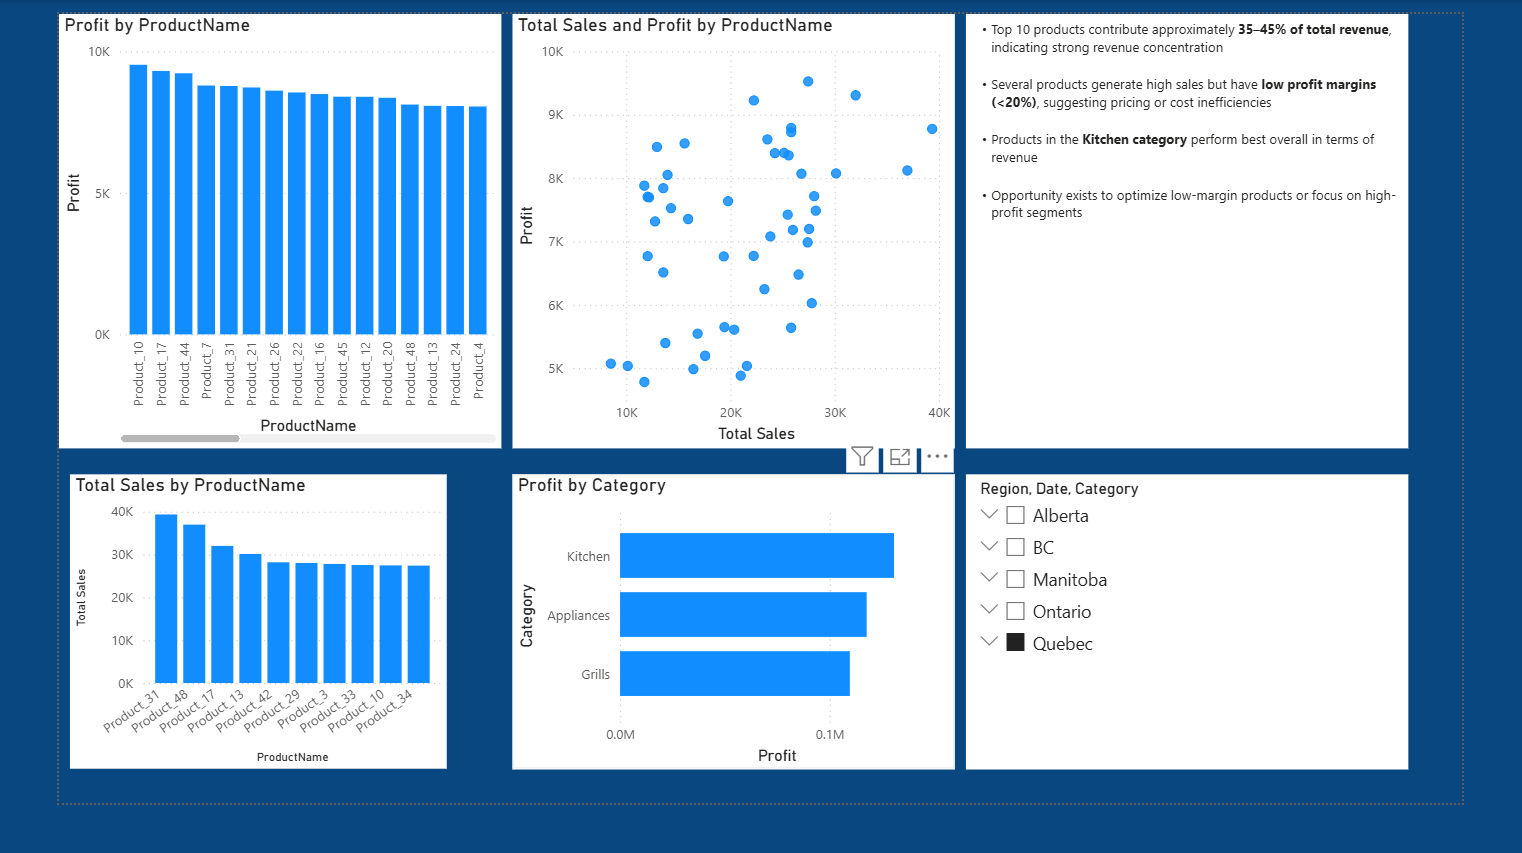

The page's visual inventory and layout, read from the dashboard file:
{"tool":"powerbi","page":{"name":"Page 4","canvas":[1280,720],"ordinal":3},"visuals":[{"type":"clusteredColumnChart","fields":{"Category":["products.ProductName"],"Y":["customers.Total Sales"]},"box":[10,420,343.8,268.8],"z":1},{"type":"columnChart","fields":{"Category":["products.ProductName"],"Y":["customers.Profit"]},"box":[0,0,403.8,396.2],"z":2},{"type":"scatterChart","fields":{"X":["customers.Total Sales"],"Y":["customers.Profit"],"Category":["products.ProductName"]},"box":[414,0,404,396],"z":3},{"type":"barChart","fields":{"Y":["customers.Profit"],"Category":["products.Category"]},"box":[414,420,404,269],"z":5},{"type":"textbox","box":[828,0,404,396],"z":6},{"type":"slicer","fields":{"Values":["sales.Region","sales.Date","products.Category"]},"box":[828,420,404,269],"z":7}]}

Visuals, with their boxes in screenshot pixels (x1, y1, x2, y2), scaled from the page's 1280x720 canvas onto the 1522x853 screenshot:
clusteredColumnChart - products.ProductName x customers.Total Sales: Rect(12, 498, 421, 816)
columnChart - products.ProductName x customers.Profit: Rect(0, 0, 480, 469)
scatterChart - customers.Total Sales x customers.Profit: Rect(492, 0, 973, 469)
barChart - customers.Profit x products.Category: Rect(492, 498, 973, 816)
textbox: Rect(985, 0, 1465, 469)
slicer - sales.Region x sales.Date: Rect(985, 498, 1465, 816)
